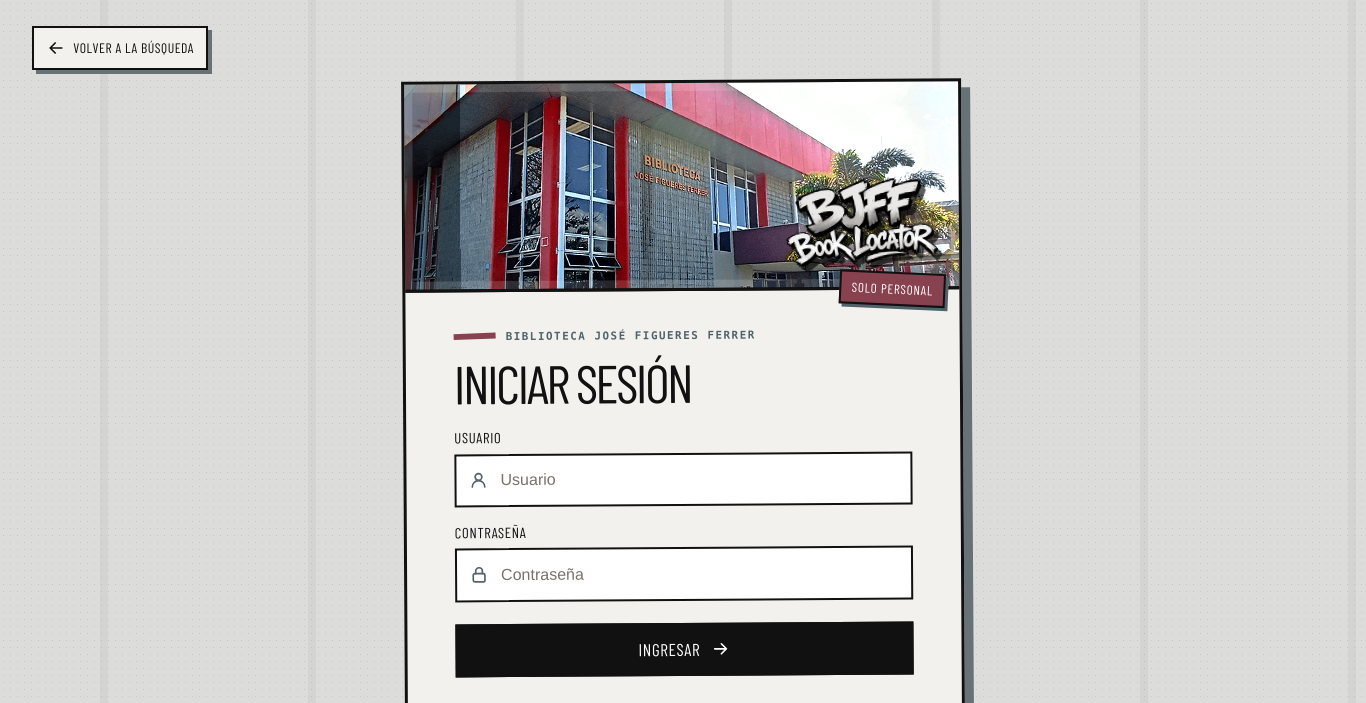
Test case: flujo administrativo › separa esquemas por estado y conserva una guía estable de siete etapas
In the field labelled "Usuario": (684, 479) top-left (454, 451), bottom-right (913, 508), type "admin"
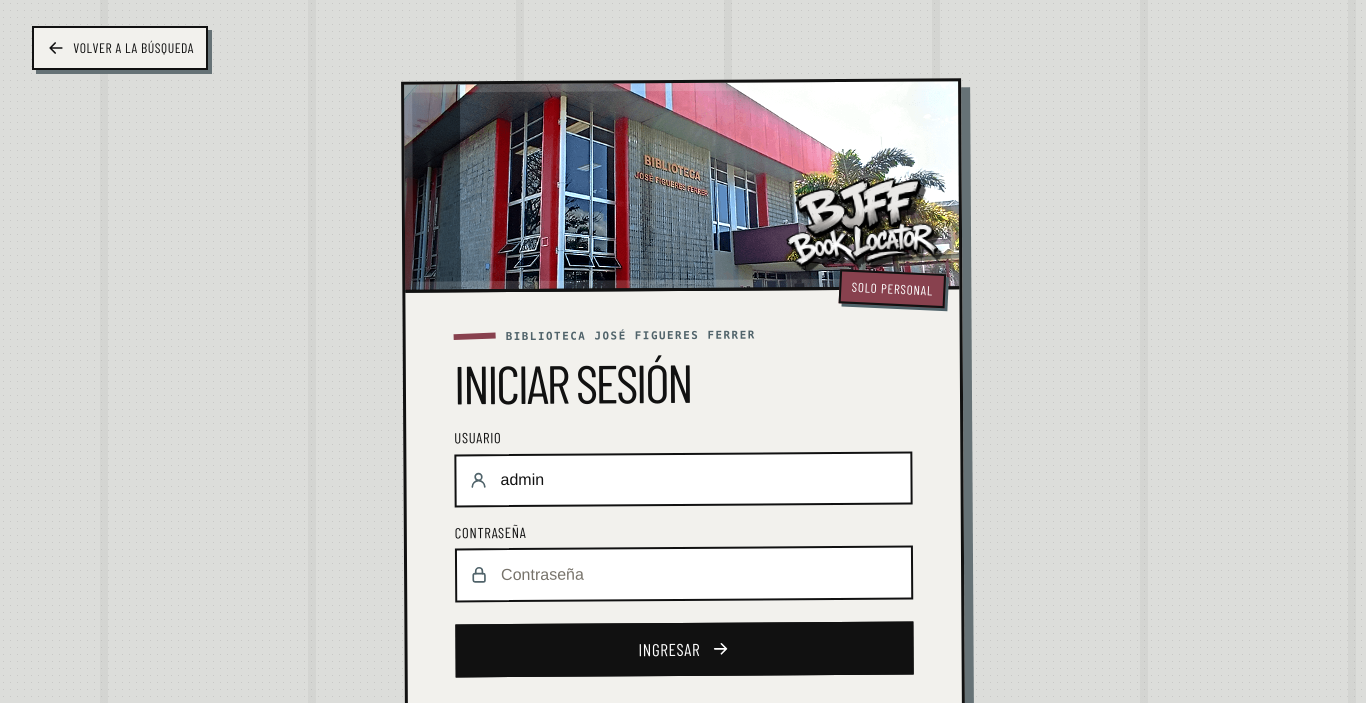
In the password field labelled "Contraseña": (684, 574) top-left (455, 546), bottom-right (913, 602), type "admin"
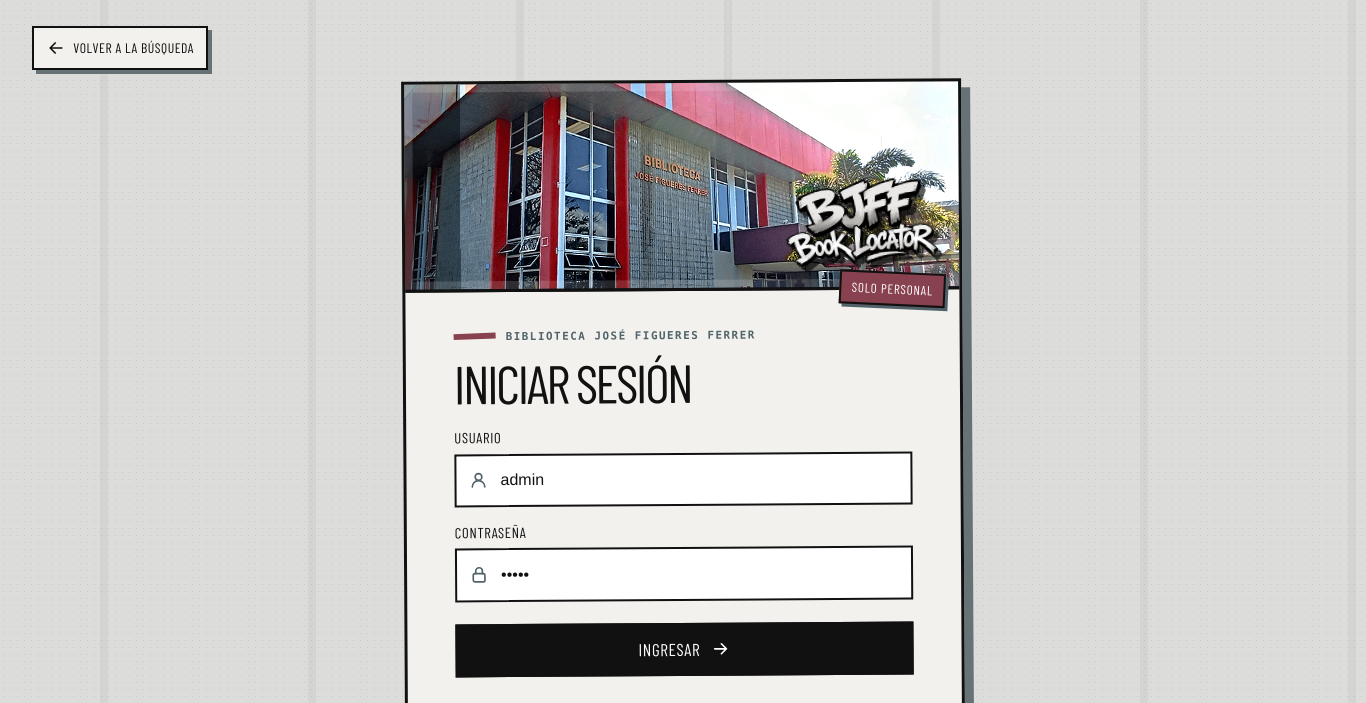
Click the button "Ingresar": (685, 649) top-left (455, 621), bottom-right (914, 678)
(page scrolled)
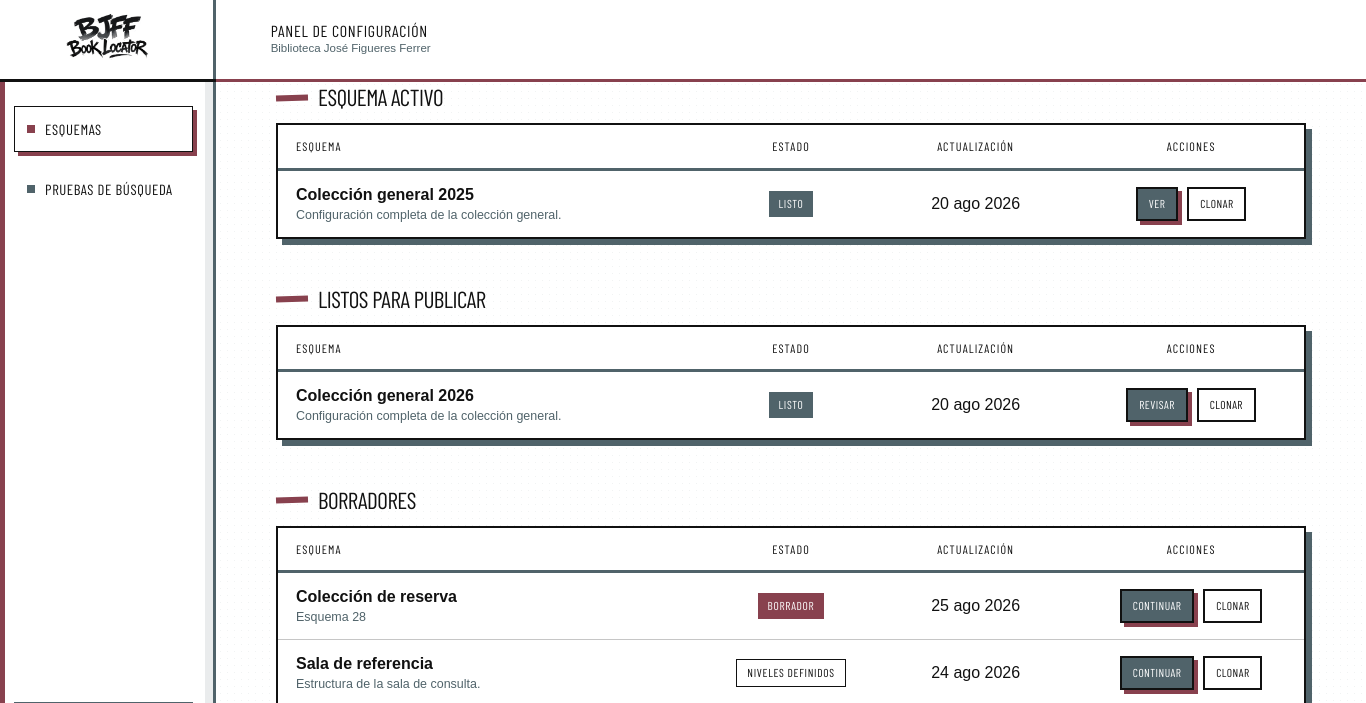
Now the heading "Esquema activo" is shown, box top-left (318, 84), bottom-right (443, 112)
Now the heading "Listos para publicar" is shown, box top-left (318, 285), bottom-right (486, 313)
Now the heading "Borradores" is shown, box top-left (318, 486), bottom-right (416, 514)
Click the link "Continuar" in the row of "Colección de reserva": (1157, 606) top-left (1120, 589), bottom-right (1194, 623)
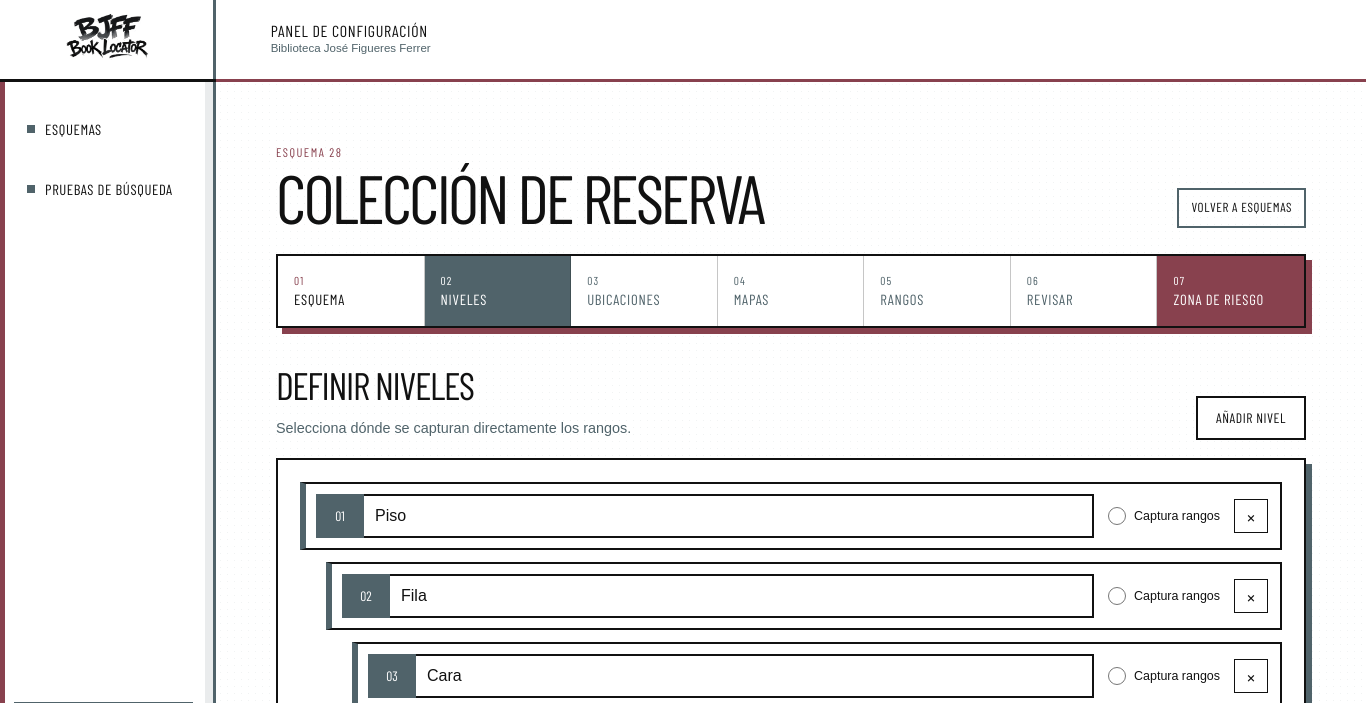
Now the heading "Definir niveles" is shown, box top-left (276, 362), bottom-right (474, 408)
Now the text "01" is shown 7 times
